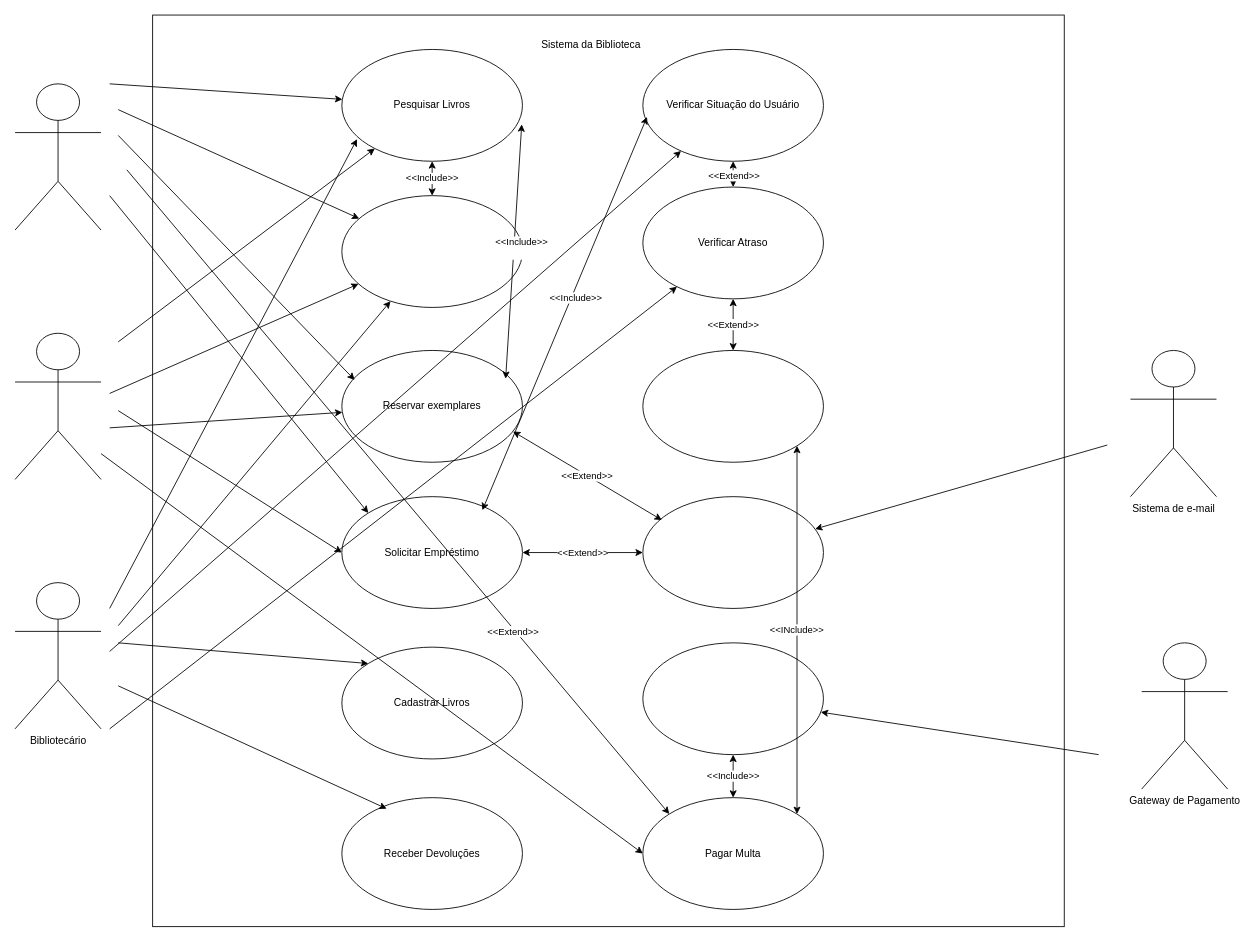
The diagram is 1255 pixels wide and 942 high, and some of its shapes have lost their labels. Here are the shapes that lost their labels. From the top down, the centre of each, then its label:
At point (57, 156): "Aluno".
At point (431, 251): "Consultar Disponibilidade".
At point (57, 405): "Professor".
At point (732, 406): "Calcular Multa".
At point (732, 552): "Enviar Lembretes por e-mail".
At point (732, 698): "Registrar pagamento".
